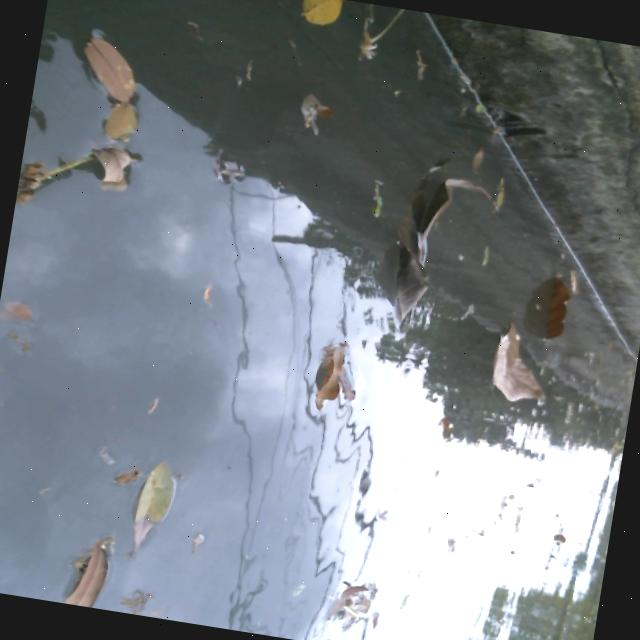Big-leaf: (379, 160, 504, 340), (473, 313, 555, 420), (295, 336, 365, 416), (535, 278, 569, 337)
Small-leaf: (65, 29, 153, 93), (130, 460, 190, 552), (54, 536, 120, 611), (284, 70, 352, 134), (87, 91, 146, 152), (343, 162, 390, 228), (82, 138, 130, 190), (320, 578, 364, 625), (546, 254, 588, 295), (301, 0, 348, 28), (465, 148, 490, 171)
